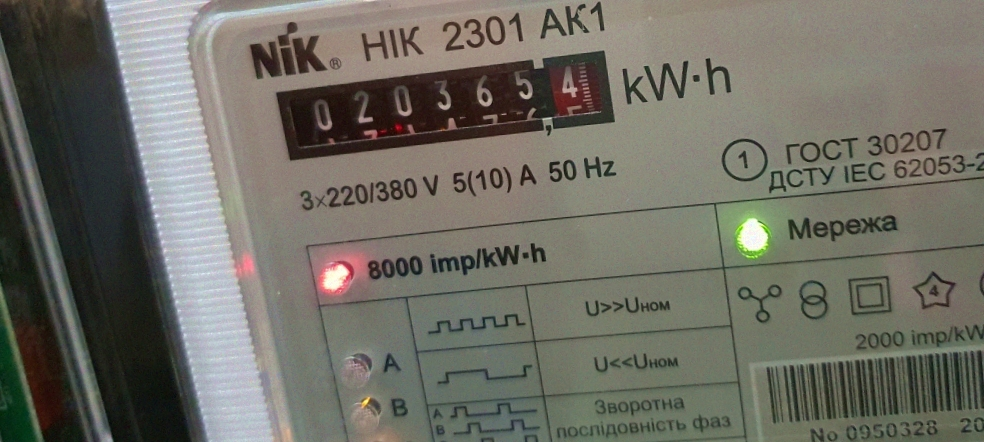0: (311, 96, 334, 132), (392, 82, 414, 119)
2: (350, 88, 375, 125)
3: (432, 75, 453, 112)
4: (558, 63, 579, 99)
5: (512, 67, 535, 101)
6: (472, 72, 495, 109)
screen: (258, 38, 634, 171)
